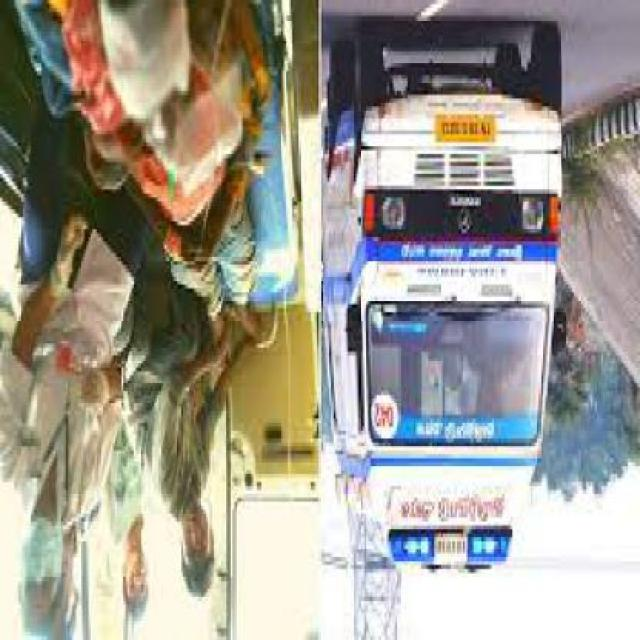Ambulance: (326, 4, 566, 568)
